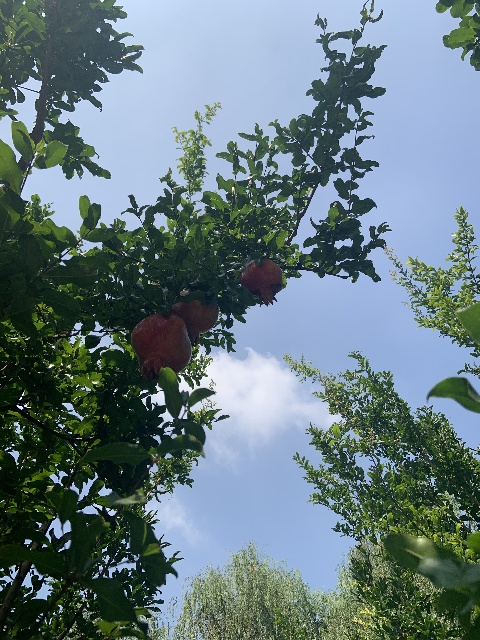ripe: (131, 312, 191, 381), (171, 290, 219, 347), (240, 258, 283, 305)
